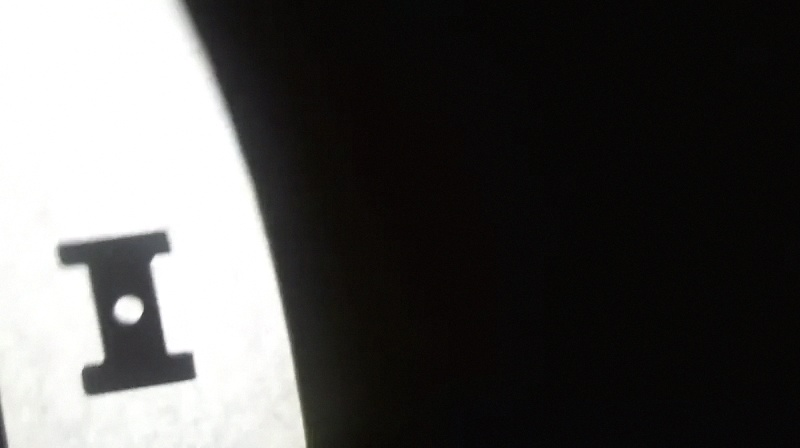O002: (53, 227, 200, 398)
